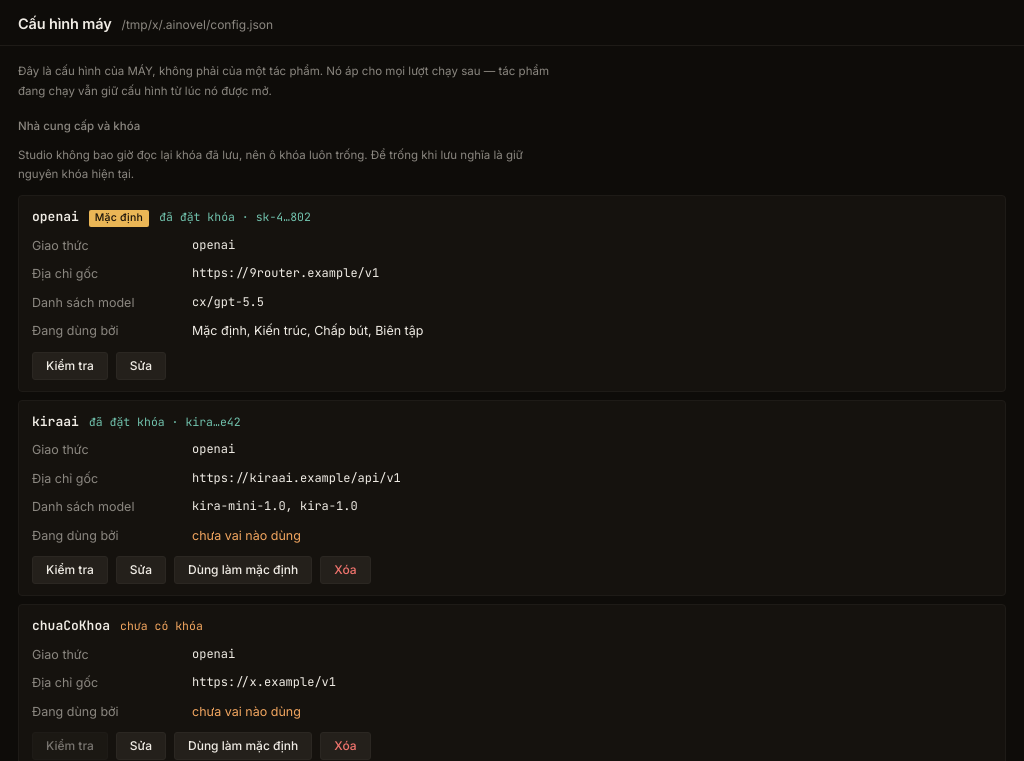
Test: một cú bấm chỉ sinh ĐÚNG MỘT dòng báo cáo trên cả màn
expect the list item with class "nccMuc" that starts with "openai" is shown: met, box [18,195,1006,392]
What coordinates should you click on to do the following:
click the button "Kiểm tra" below "đã đặt khóa · sk-4…802"
I would click on:
 (70, 366)
Its box is [32,352,108,380].
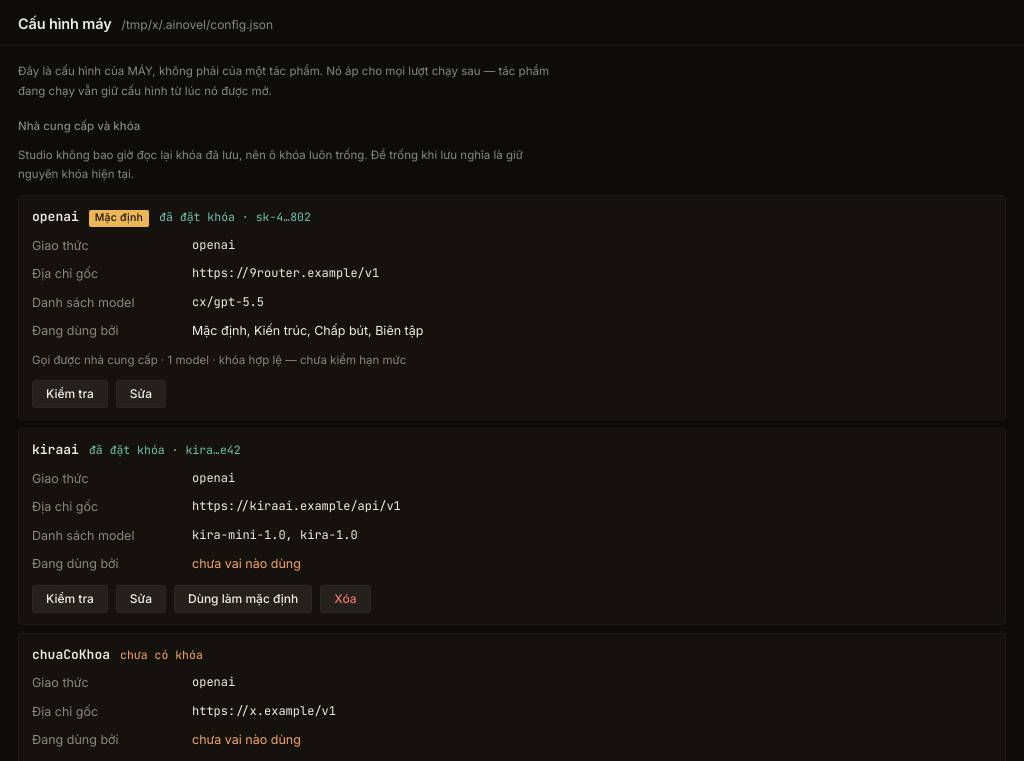
expect the list item with class "nccMuc" that starts with "openai" is shown: met, box [18,195,1006,420]
expect the list item with class "nccMuc" shows "1 model": met, box [32,353,406,367]
